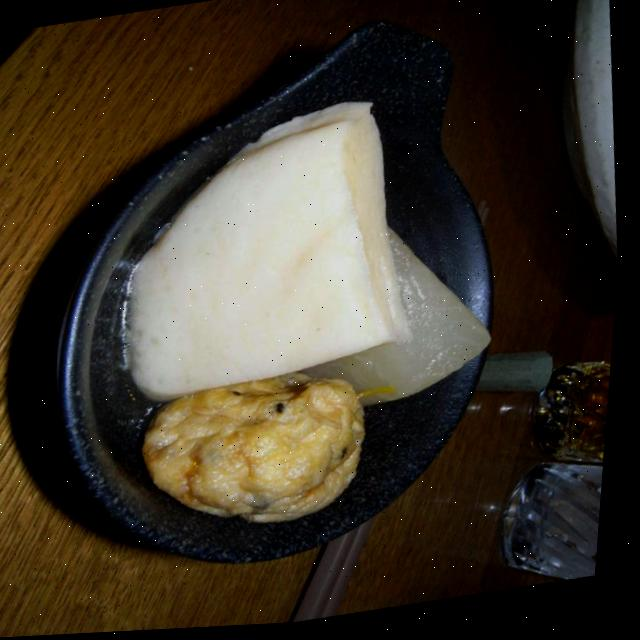汤锅炖物: (81, 69, 536, 557)
